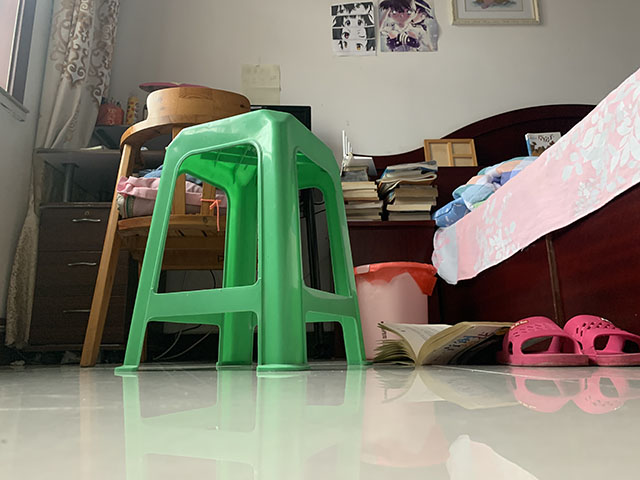bed: (352, 67, 640, 354)
book: (365, 319, 516, 367)
slippers: (563, 312, 640, 370), (508, 313, 585, 371)
stool: (115, 108, 367, 372), (77, 84, 251, 369)
trashcan: (354, 262, 439, 361)
wire: (149, 269, 219, 363)
